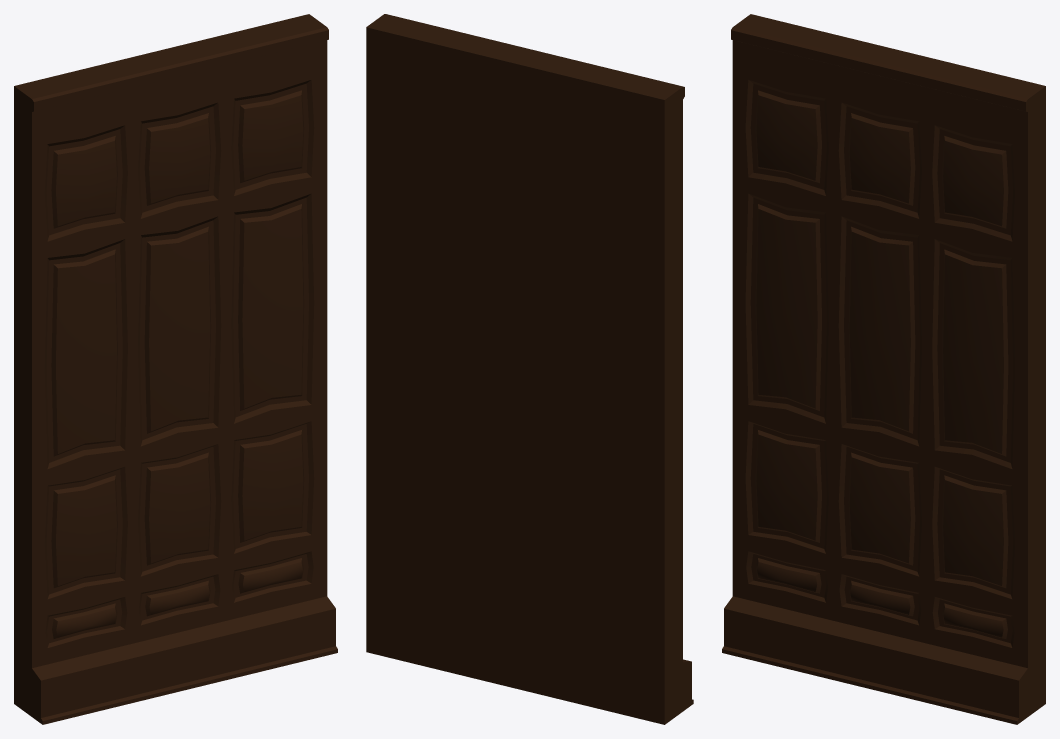
File: MiscWallDecoUV.fbx
The picture shows the model from 3 angles, left to right: view 1: azimuth 30°, elevation 25°; view 2: azimuth 150°, elevation 25°; view 3: azimuth 330°, elevation 25°; orthographic projection.
Parts seen in each view (by area): view 1: WallDeco1; view 2: WallDeco1; view 3: WallDeco1.
Boxes of the visible parts, left/top/right/bottom form: WallDeco1: left=14, top=14, right=337, bottom=724; WallDeco1: left=366, top=14, right=693, bottom=724; WallDeco1: left=722, top=14, right=1045, bottom=724.
Size of the model in its own units: 238 by 475 by 40.06.
